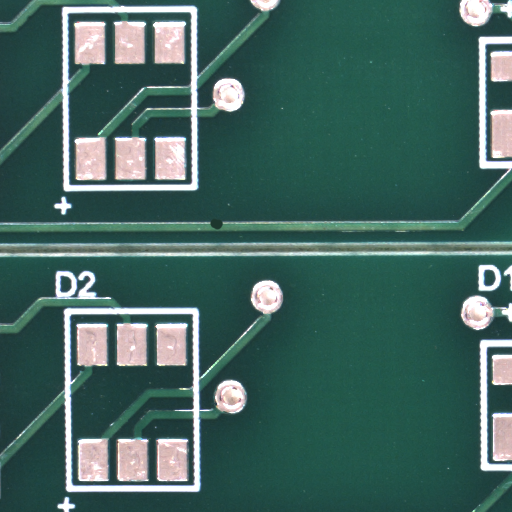Mouse_bite: (215, 224, 227, 233)
